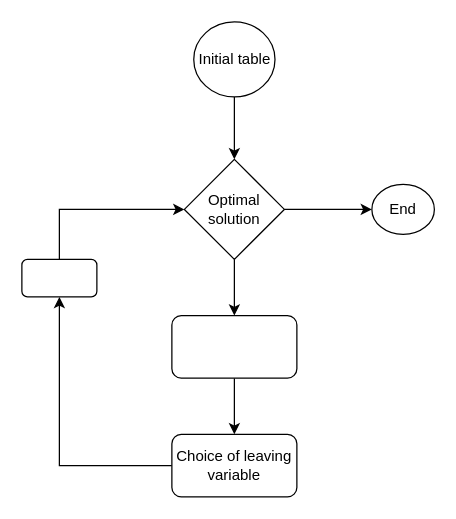
Some shapes in this 456 by 519 pixel diagram are drawn without their labels. The shapes that lost their labels are listed below. From the top down, each one's centre as x and y in pixels, then its label:
At (x=59, y=277): "Pivot".
At (x=234, y=346): "Choice of entering variable".
